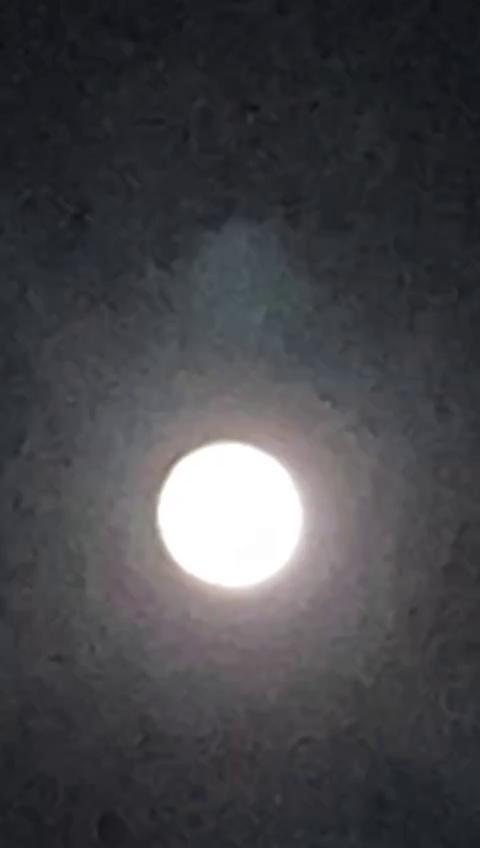moon: (176, 408, 348, 600)
